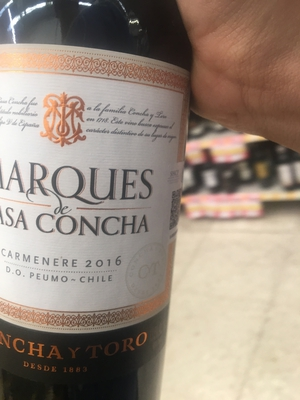marques de casa concha carmenere: (1, 17, 195, 400)
